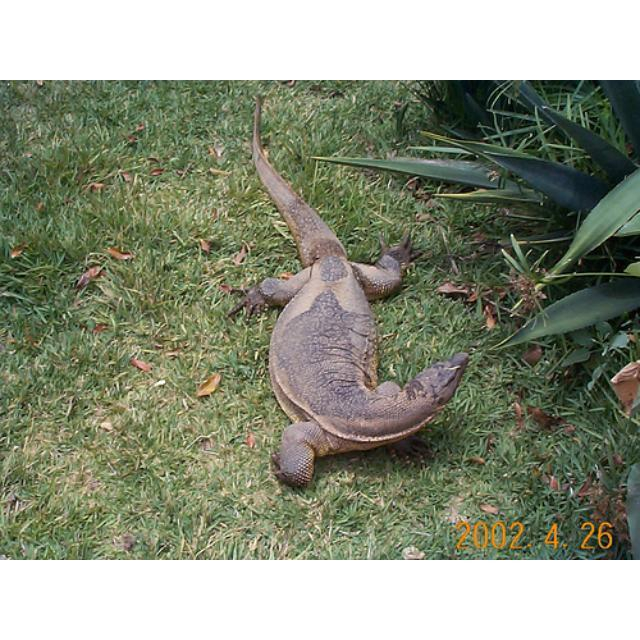KomodoDragon: (224, 90, 472, 489)
